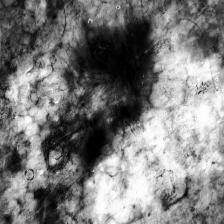Potentially Malignant Skin Tumors: (43, 25, 155, 174)
